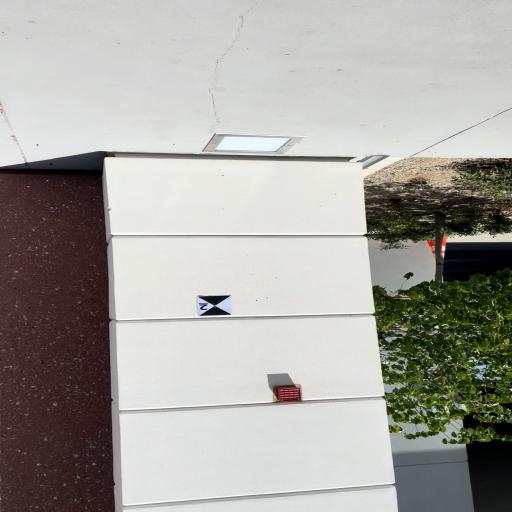target2: (197, 295, 233, 315)
